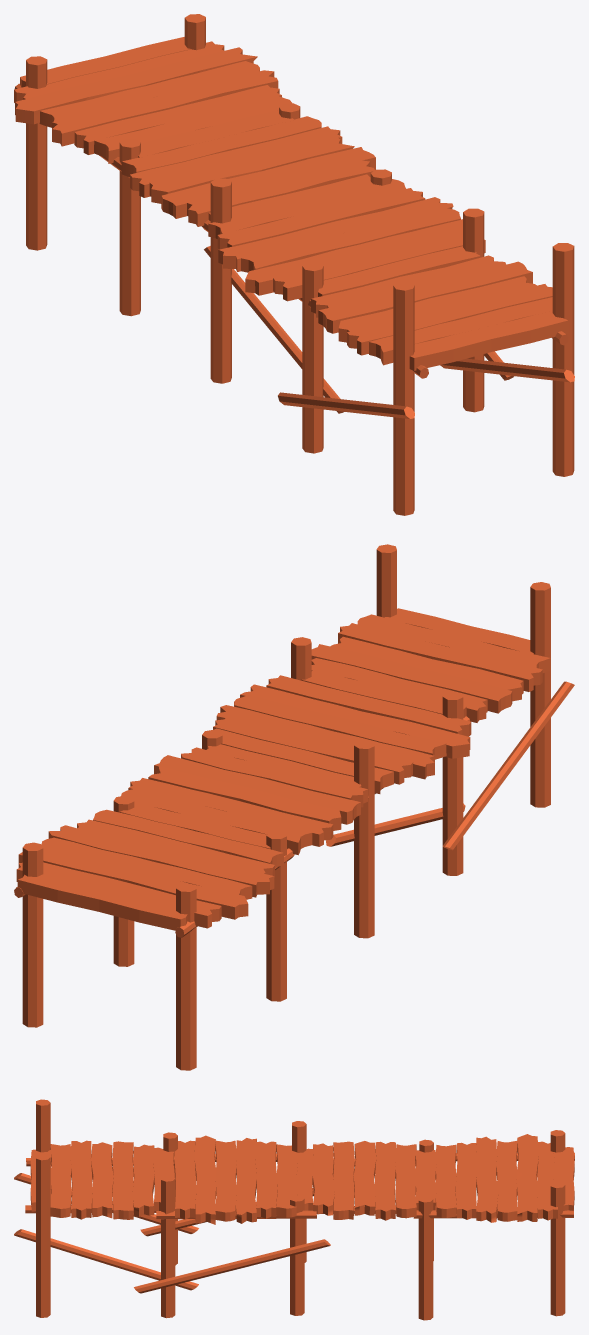
Rendered from pontoon_low_poly.glb.
3 views of the same model, one above another, from view 1: azimuth 30°, elevation 25°; view 2: azimuth 150°, elevation 25°; view 3: azimuth 270°, elevation 25° (orthographic). The views are drawn at different scales.
Parts seen in each view (by area): view 1: Cylinder.001, Cylinder, Cube, Cube.024, Cube.022, Cylinder.003, Cylinder.002, Cube.016, Cylinder.005, Cylinder.004, Cube.018, Cube.004 (+26 smaller); view 2: Cube.026, Cylinder.001, Cylinder.003, Cylinder.006, Cylinder.005, Cube.022, Cube.002, Cube.024, Cube.004, Cube.015, Cube.016, Cube.014 (+26 smaller); view 3: Cylinder, Cylinder.006, Cylinder.007, Cylinder.009, Cube.024, Cube.015, Cube.022, Cylinder.013, Cube.017, Cube.016, Cube.004, Cube.009 (+29 smaller).
Part boxes in pixels (box(x1,y1,x2,y2)): Cylinder.001: box(393, 281, 414, 515); Cylinder: box(552, 243, 574, 476); Cube: box(409, 311, 568, 370); Cube.024: box(15, 47, 257, 124); Cube.022: box(52, 70, 278, 146); Cylinder.003: box(210, 178, 231, 383); Cylinder.002: box(302, 262, 323, 453); Cube.016: box(241, 208, 460, 272); Cylinder.005: box(26, 56, 47, 250); Cylinder.004: box(119, 139, 140, 316); Cube.018: box(217, 188, 425, 249); Cube.004: box(318, 261, 532, 333); Cube.026: box(17, 872, 187, 930); Cylinder.001: box(530, 582, 550, 807); Cylinder.003: box(354, 740, 374, 938); Cylinder.006: box(22, 842, 43, 1027); Cylinder.005: box(176, 883, 196, 1070); Cube.022: box(48, 825, 274, 897); Cube.002: box(338, 623, 542, 691); Cube.024: box(18, 847, 248, 919); Cube.004: box(311, 644, 512, 713); Cube.015: box(240, 684, 470, 758); Cube.016: box(234, 695, 446, 759); Cube.014: box(266, 675, 471, 736); Cylinder: box(36, 1154, 50, 1317); Cylinder.006: box(550, 1182, 565, 1316); Cylinder.007: box(418, 1196, 433, 1320); Cylinder.009: box(161, 1175, 175, 1318); Cube.024: box(516, 1134, 538, 1221); Cube.015: box(194, 1135, 215, 1224); Cube.022: box(476, 1136, 498, 1222); Cylinder.013: box(134, 1239, 330, 1293); Cube.017: box(236, 1138, 256, 1223); Cube.016: box(215, 1140, 236, 1221); Cube.004: box(112, 1141, 133, 1219); Cube.009: box(333, 1141, 354, 1219).
Size of the model in its own units: 445 by 414 by 1310.
